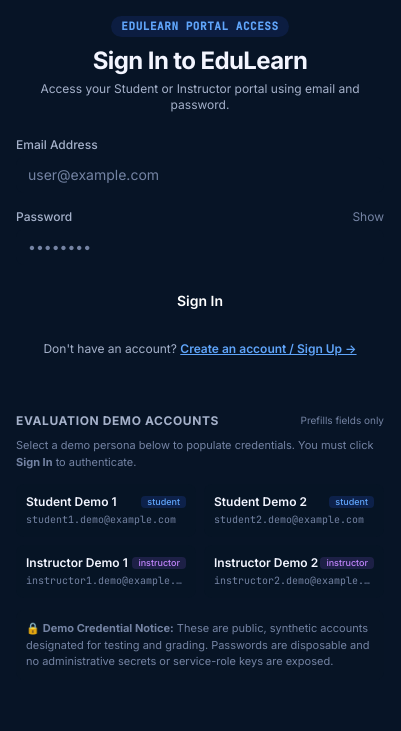
Test: LoginPage Component Tests › displays error message when authentication fails
Type "wrong@example.com" into the field labelled "Email Address" at (200, 174), box [16,156,384,192]
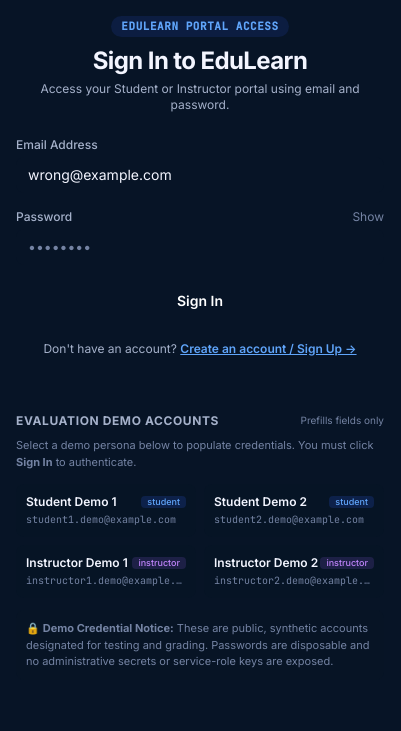
Type "WrongPass!" into the password field labelled "Password" at (200, 246), box [16,228,384,264]
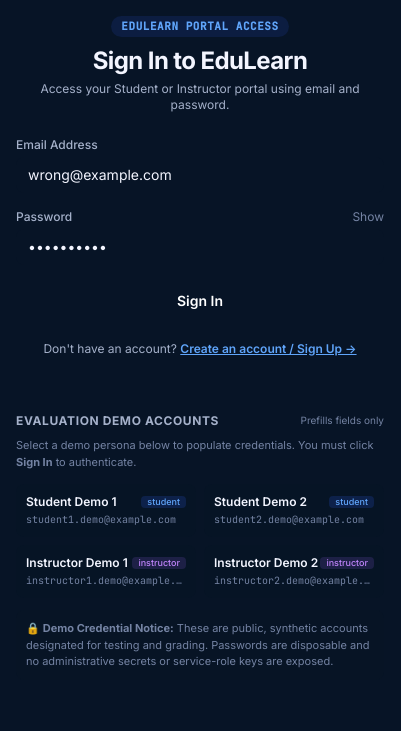
Click the button "Sign In" at (200, 300), box [16,280,384,320]
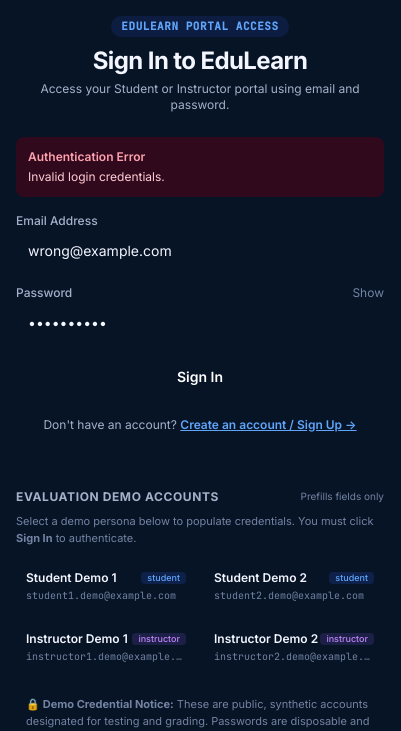
Check: the text "Invalid login credentials." is shown, box [28,168,165,184]
